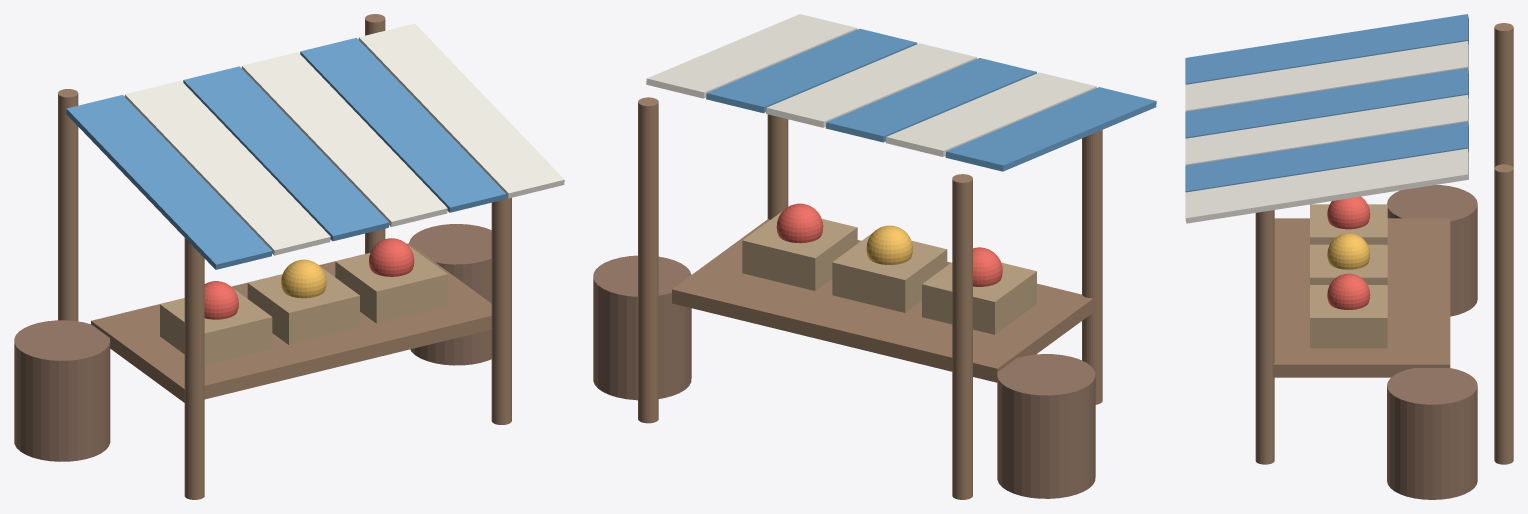
The model's file is market_stall_01.glb.
3 renders of one model, left to right at view 1: azimuth 30°, elevation 25°; view 2: azimuth 150°, elevation 25°; view 3: azimuth 270°, elevation 25°, orthographic. The views are drawn at different scales.
Visible parts, largest first — view 1: Market_Stall_01; view 2: Market_Stall_01; view 3: Market_Stall_01.
Boxes of the visible parts, <box> form: Market_Stall_01: <box>14,14,564,499</box>; Market_Stall_01: <box>593,14,1156,499</box>; Market_Stall_01: <box>1185,14,1513,499</box>.
Bounding box in the file's own units: 4.36 × 2.73 × 2.75.
